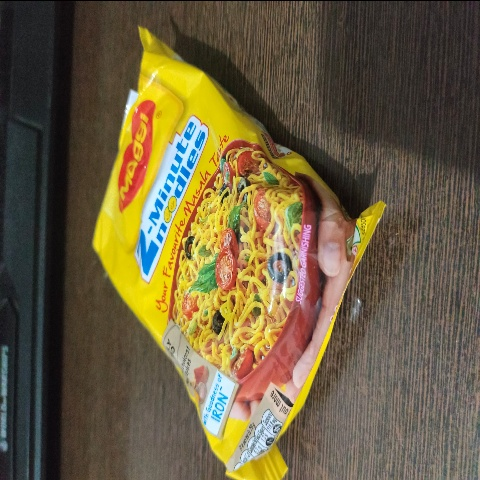maggi: (54, 10, 349, 459)
